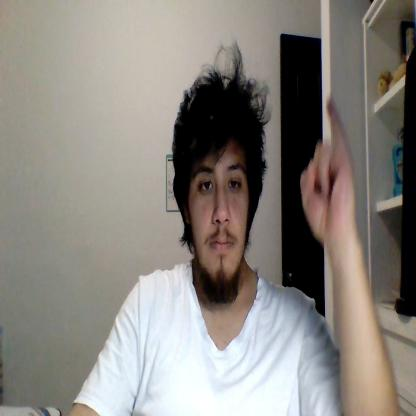I: (300, 96, 356, 234)
